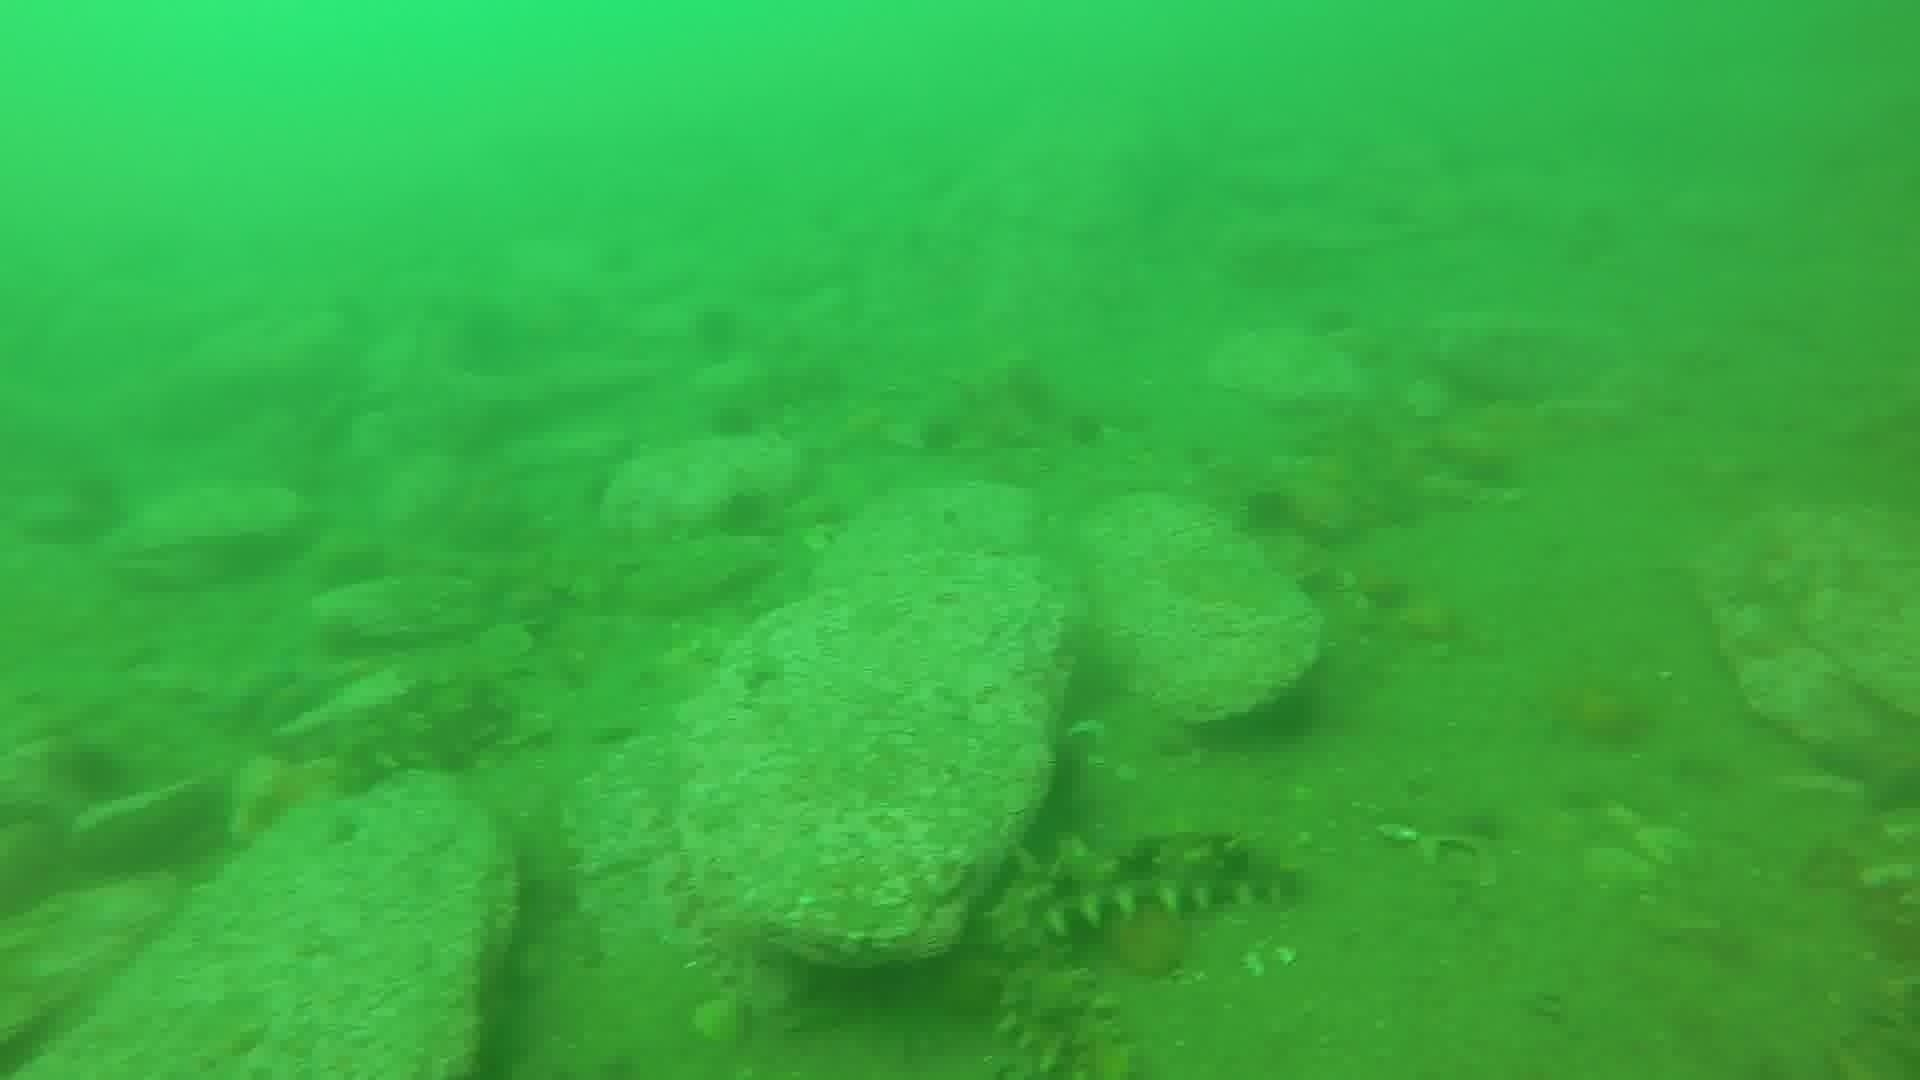echinus: (1044, 405, 1118, 468), (705, 484, 779, 547), (1305, 291, 1379, 355), (1230, 481, 1303, 545), (905, 402, 977, 465), (680, 290, 753, 353), (692, 400, 765, 462)
holothurian: (989, 827, 1305, 949), (303, 669, 522, 795), (986, 947, 1135, 1077)
